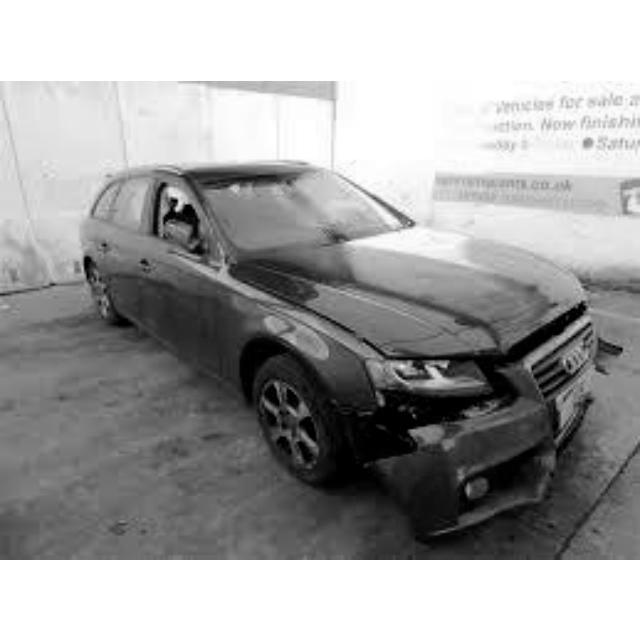Headlight-damage: (327, 318, 490, 397)
front-bumper-dent: (391, 397, 563, 508)
